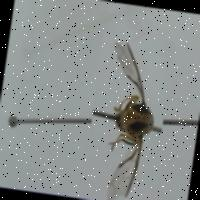Oriental-fruit-fly: (79, 31, 173, 200)
